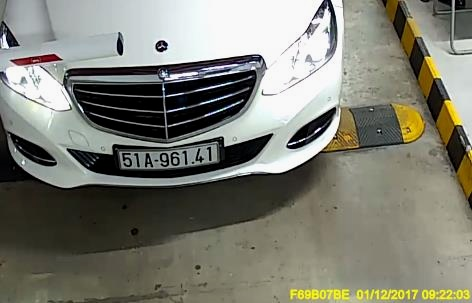plate: (115, 143, 222, 170)
